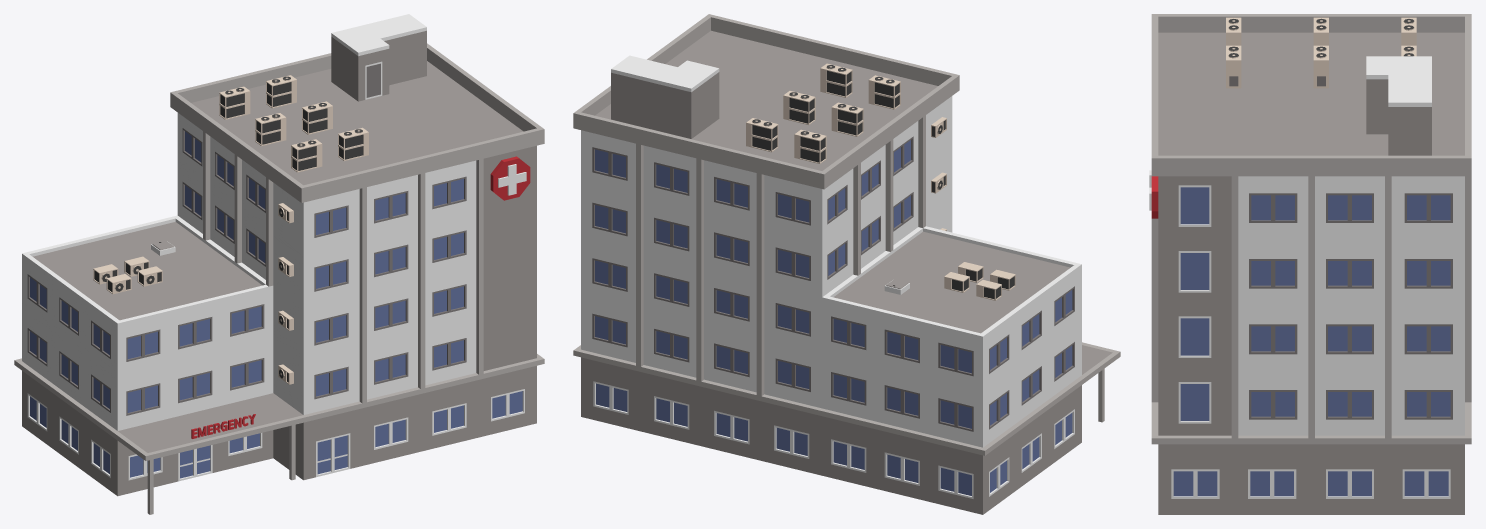
The model's file is building-hospital.fbx.
3 renders of one model, left to right at view 1: azimuth 30°, elevation 25°; view 2: azimuth 150°, elevation 25°; view 3: azimuth 270°, elevation 25°, orthographic. The views are drawn at different scales.
Parts seen in each view (by area): view 1: building-hospital; view 2: building-hospital; view 3: building-hospital.
Boxes of the visible parts, bbox=[...] form: building-hospital: bbox=[14, 14, 544, 514]; building-hospital: bbox=[573, 14, 1120, 514]; building-hospital: bbox=[1149, 14, 1471, 514].
Bounding box in the file's own units: 25.6 × 20.3 × 14.7.
